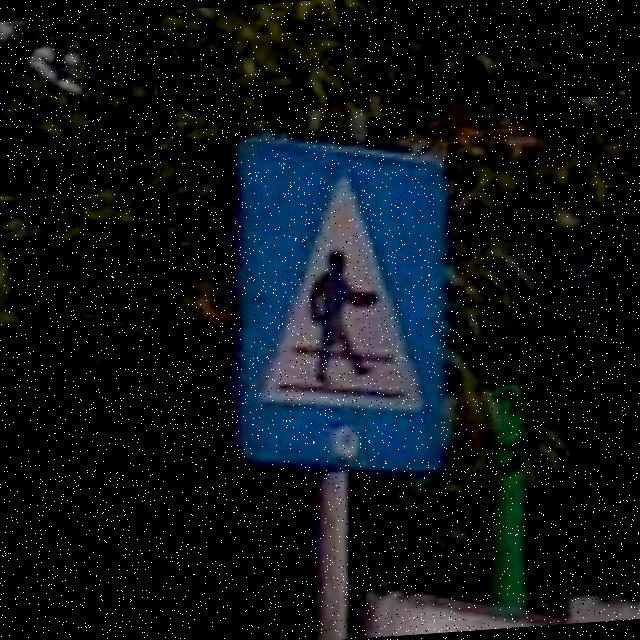Przejscie dla pieszych: (221, 124, 460, 483)
